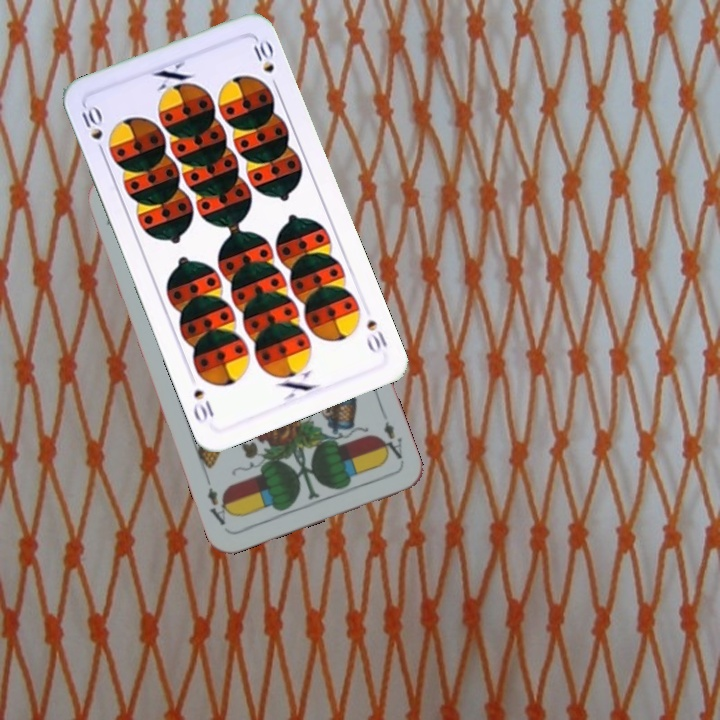EA: (376, 417, 406, 465)
S10: (77, 101, 108, 158), (362, 315, 390, 356)
